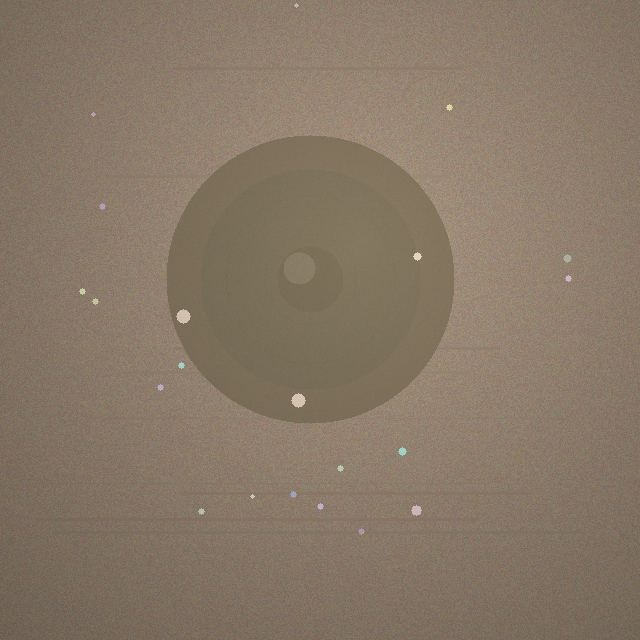overburn: (166, 135, 454, 423)
